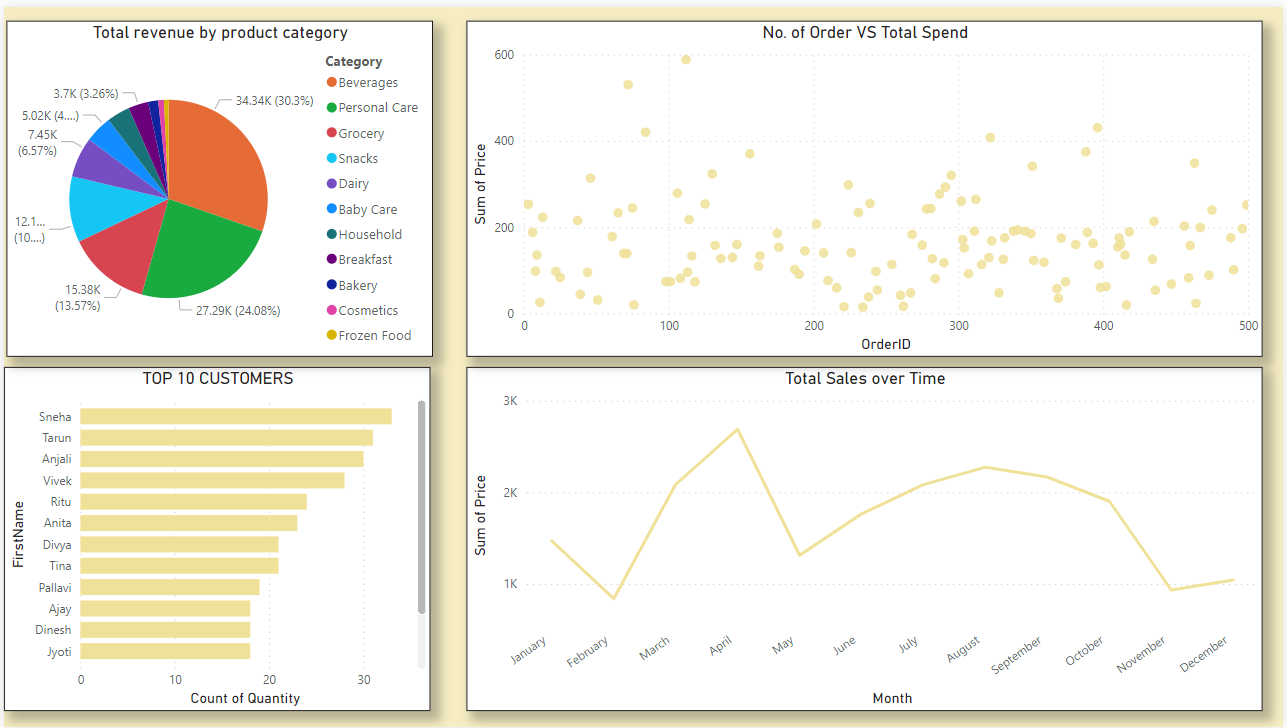

What the dashboard file says about the page in this screenshot:
{"tool":"powerbi","page":{"name":"Page 1","canvas":[1280,720],"ordinal":0},"visuals":[{"type":"barChart","title":"TOP 10 CUSTOMERS","fields":{"Y":["orderitems.Quantity"],"Category":["customers.FirstName"]},"box":[0,360,426,344],"z":0},{"type":"pieChart","title":"Total revenue by product category","fields":{"Category":["products.Category"],"Y":["orderitems.Total Revenue M"]},"box":[2,14,426,336],"z":1},{"type":"lineChart","title":"Total Sales over Time","fields":{"Category":["orders.OrderDate.Variation.Date Hierarchy.Month"],"Y":["orderitems.Price"]},"box":[462,360,796,344],"z":2},{"type":"scatterChart","title":"No. of Order VS Total Spend ","fields":{"Y":["orderitems.Price"],"X":["orderitems.OrderID"]},"box":[462,14,796,336],"z":3}]}

Visuals, with their boxes in screenshot pixels (x1, y1, x2, y2), scaled from the page's 1280x720 canvas onto the 1287x728 screenshot:
"TOP 10 CUSTOMERS" barChart: (0,364,428,712)
"Total revenue by product category" pieChart: (2,14,430,354)
"Total Sales over Time" lineChart: (465,364,1265,712)
"No. of Order VS Total Spend " scatterChart: (465,14,1265,354)
